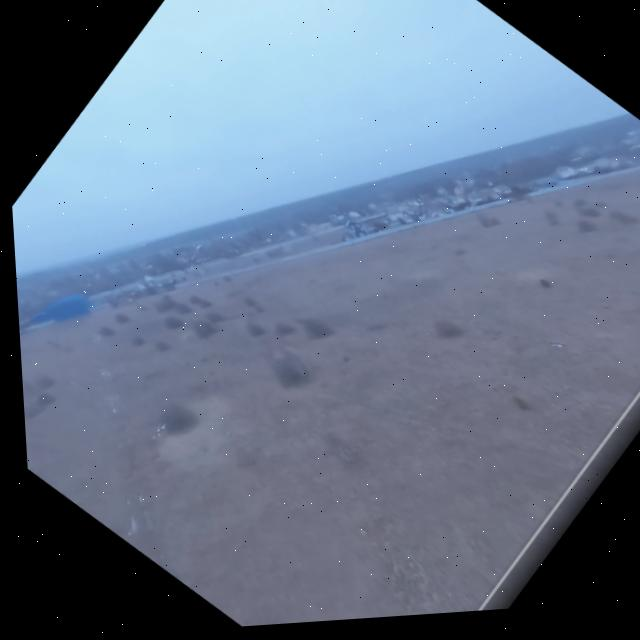planedrone: (174, 231, 211, 269)
